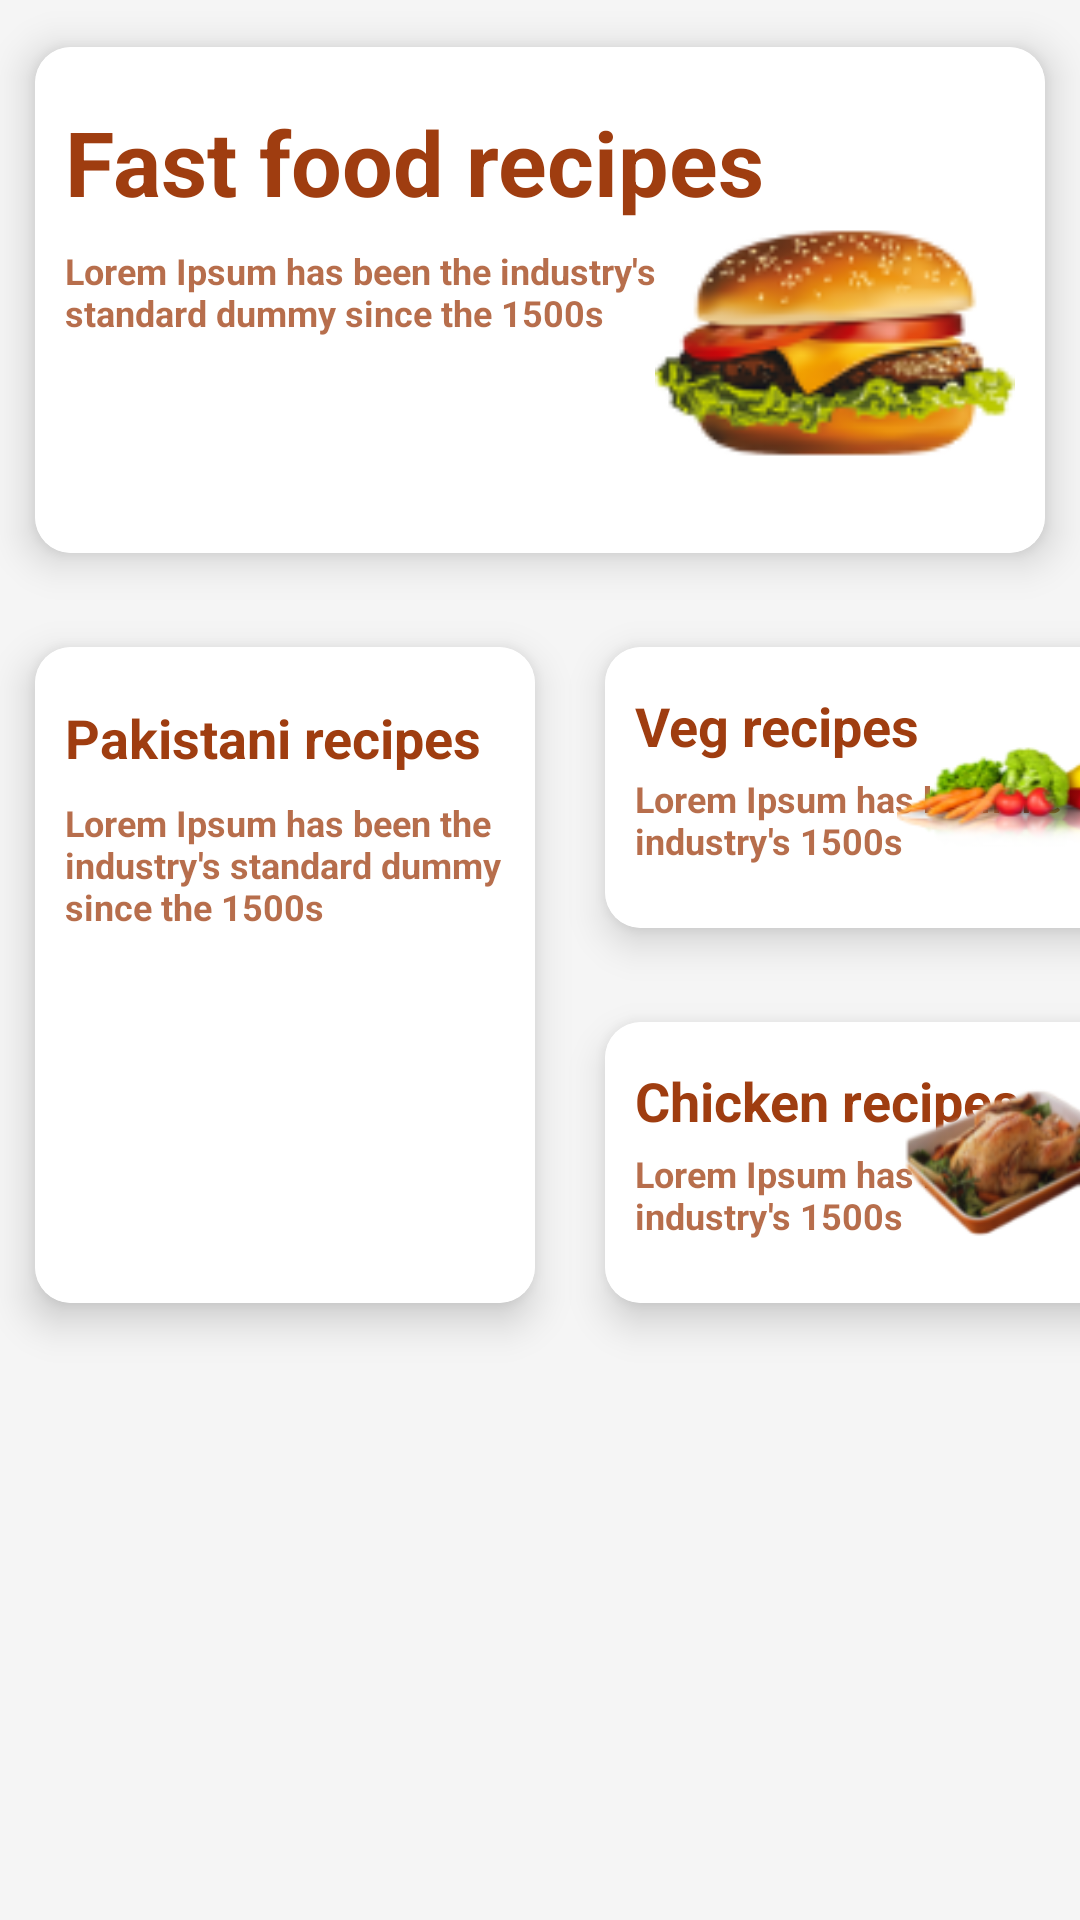

Icon click points for this 1080w x 1920h phone screenshot, format (x=x, y=y):
burgers: (x=835, y=343)
